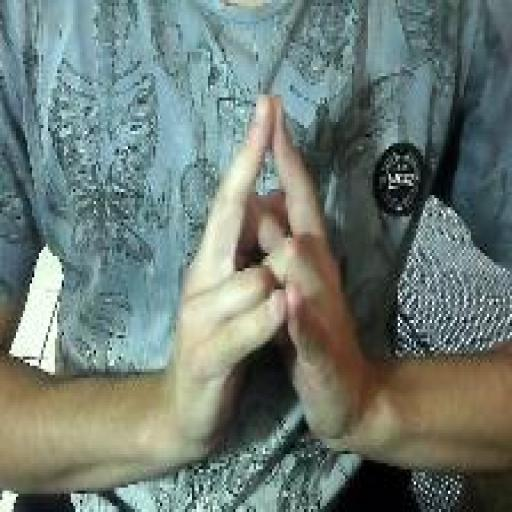Tori -bird-: (168, 90, 369, 459)
